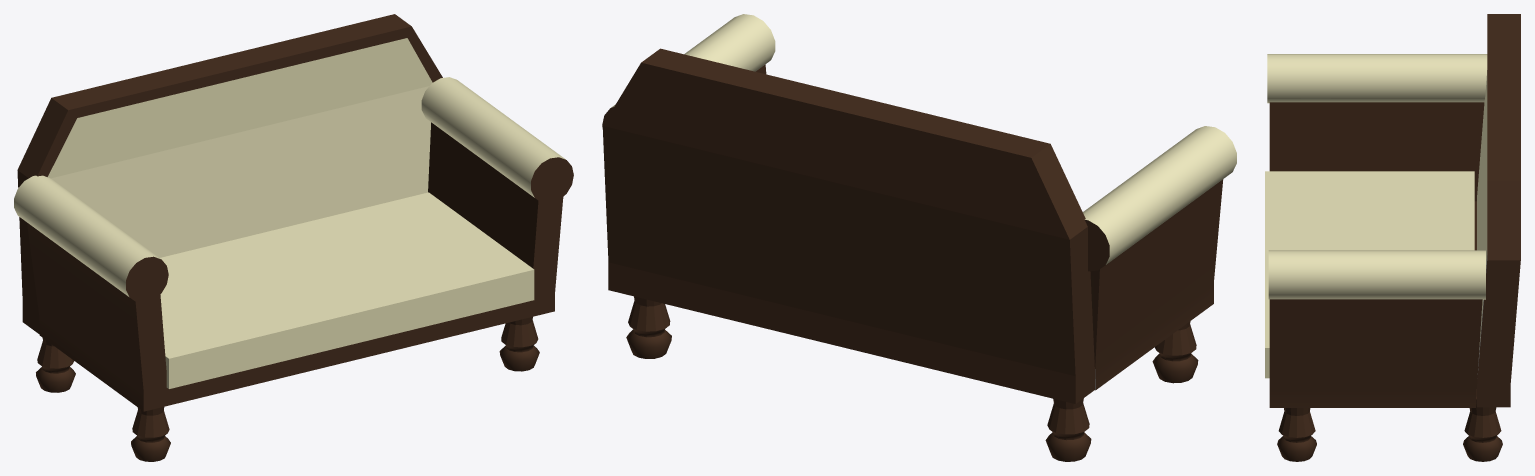
The model's file is sofa.fbx.
3 renders of one model, left to right at view 1: azimuth 30°, elevation 25°; view 2: azimuth 150°, elevation 25°; view 3: azimuth 270°, elevation 25°, orthographic. The views are drawn at different scales.
Visible parts, largest first — view 1: pCube3, pCube2, pCube1, pCylinder1, pCylinder4, pCylinder3, pCylinder5, pCylinder7; view 2: pCube3, pCube1, pCylinder1, pCylinder4, pCylinder7, pCylinder6, pCylinder3; view 3: pCube1, pCube2, pCube3, pCylinder4, pCylinder1, pCylinder6, pCylinder5.
Boxes of the visible parts, box(x1,y1,x2,y2) form: pCube3: box(17, 14, 442, 334); pCube2: box(160, 192, 534, 388); pCube1: box(27, 122, 563, 411); pCylinder1: box(14, 175, 168, 302); pCylinder4: box(421, 77, 573, 203); pCylinder3: box(131, 407, 170, 461); pCylinder5: box(499, 317, 539, 371); pCylinder7: box(36, 338, 75, 392); pCube3: box(602, 48, 1094, 403); pCube1: box(755, 64, 1223, 390); pCylinder1: box(1083, 126, 1236, 271); pCylinder4: box(602, 14, 775, 126); pCylinder7: box(1045, 398, 1091, 461); pCylinder6: box(626, 296, 671, 358); pCylinder3: box(1152, 321, 1198, 383); pCube1: box(1269, 102, 1484, 407); pCube2: box(1265, 171, 1474, 378); pCube3: box(1477, 14, 1520, 407); pCylinder4: box(1268, 250, 1485, 299); pCylinder1: box(1267, 54, 1487, 103); pCylinder6: box(1463, 389, 1502, 461); pCylinder5: box(1277, 408, 1316, 461).
Bounding box in the file's own units: 7.64 × 4.42 × 3.8.
